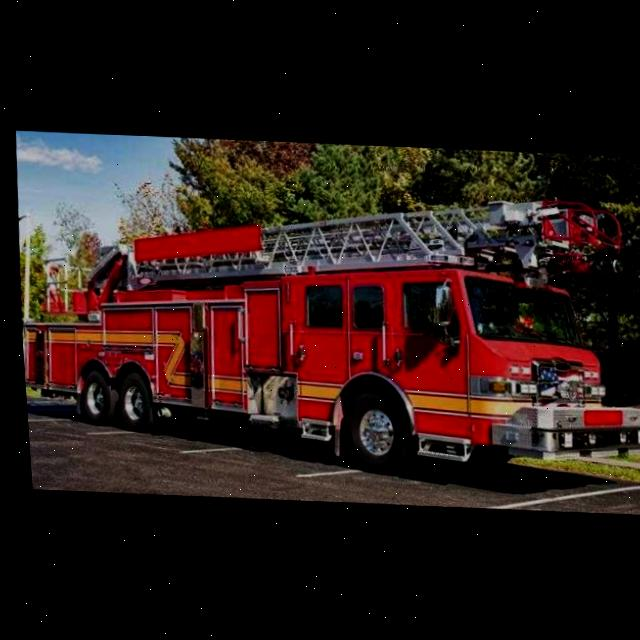emergency: (9, 175, 640, 485)
